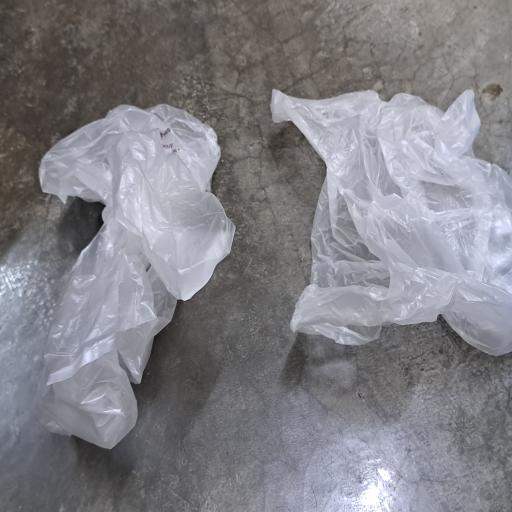plastic bag: (47, 49, 308, 317), (114, 360, 317, 512)
